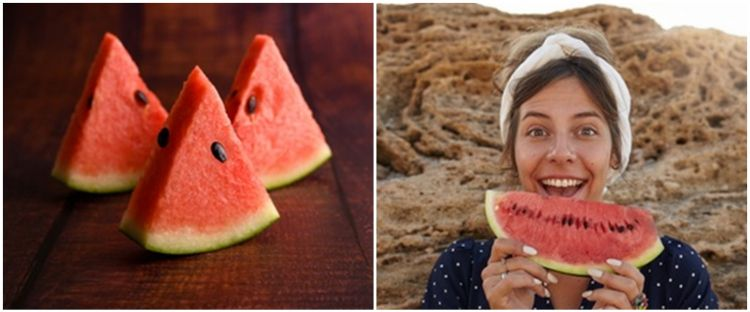Semangka: (123, 71, 261, 291), (470, 181, 688, 289), (49, 29, 173, 215), (227, 27, 338, 198)
